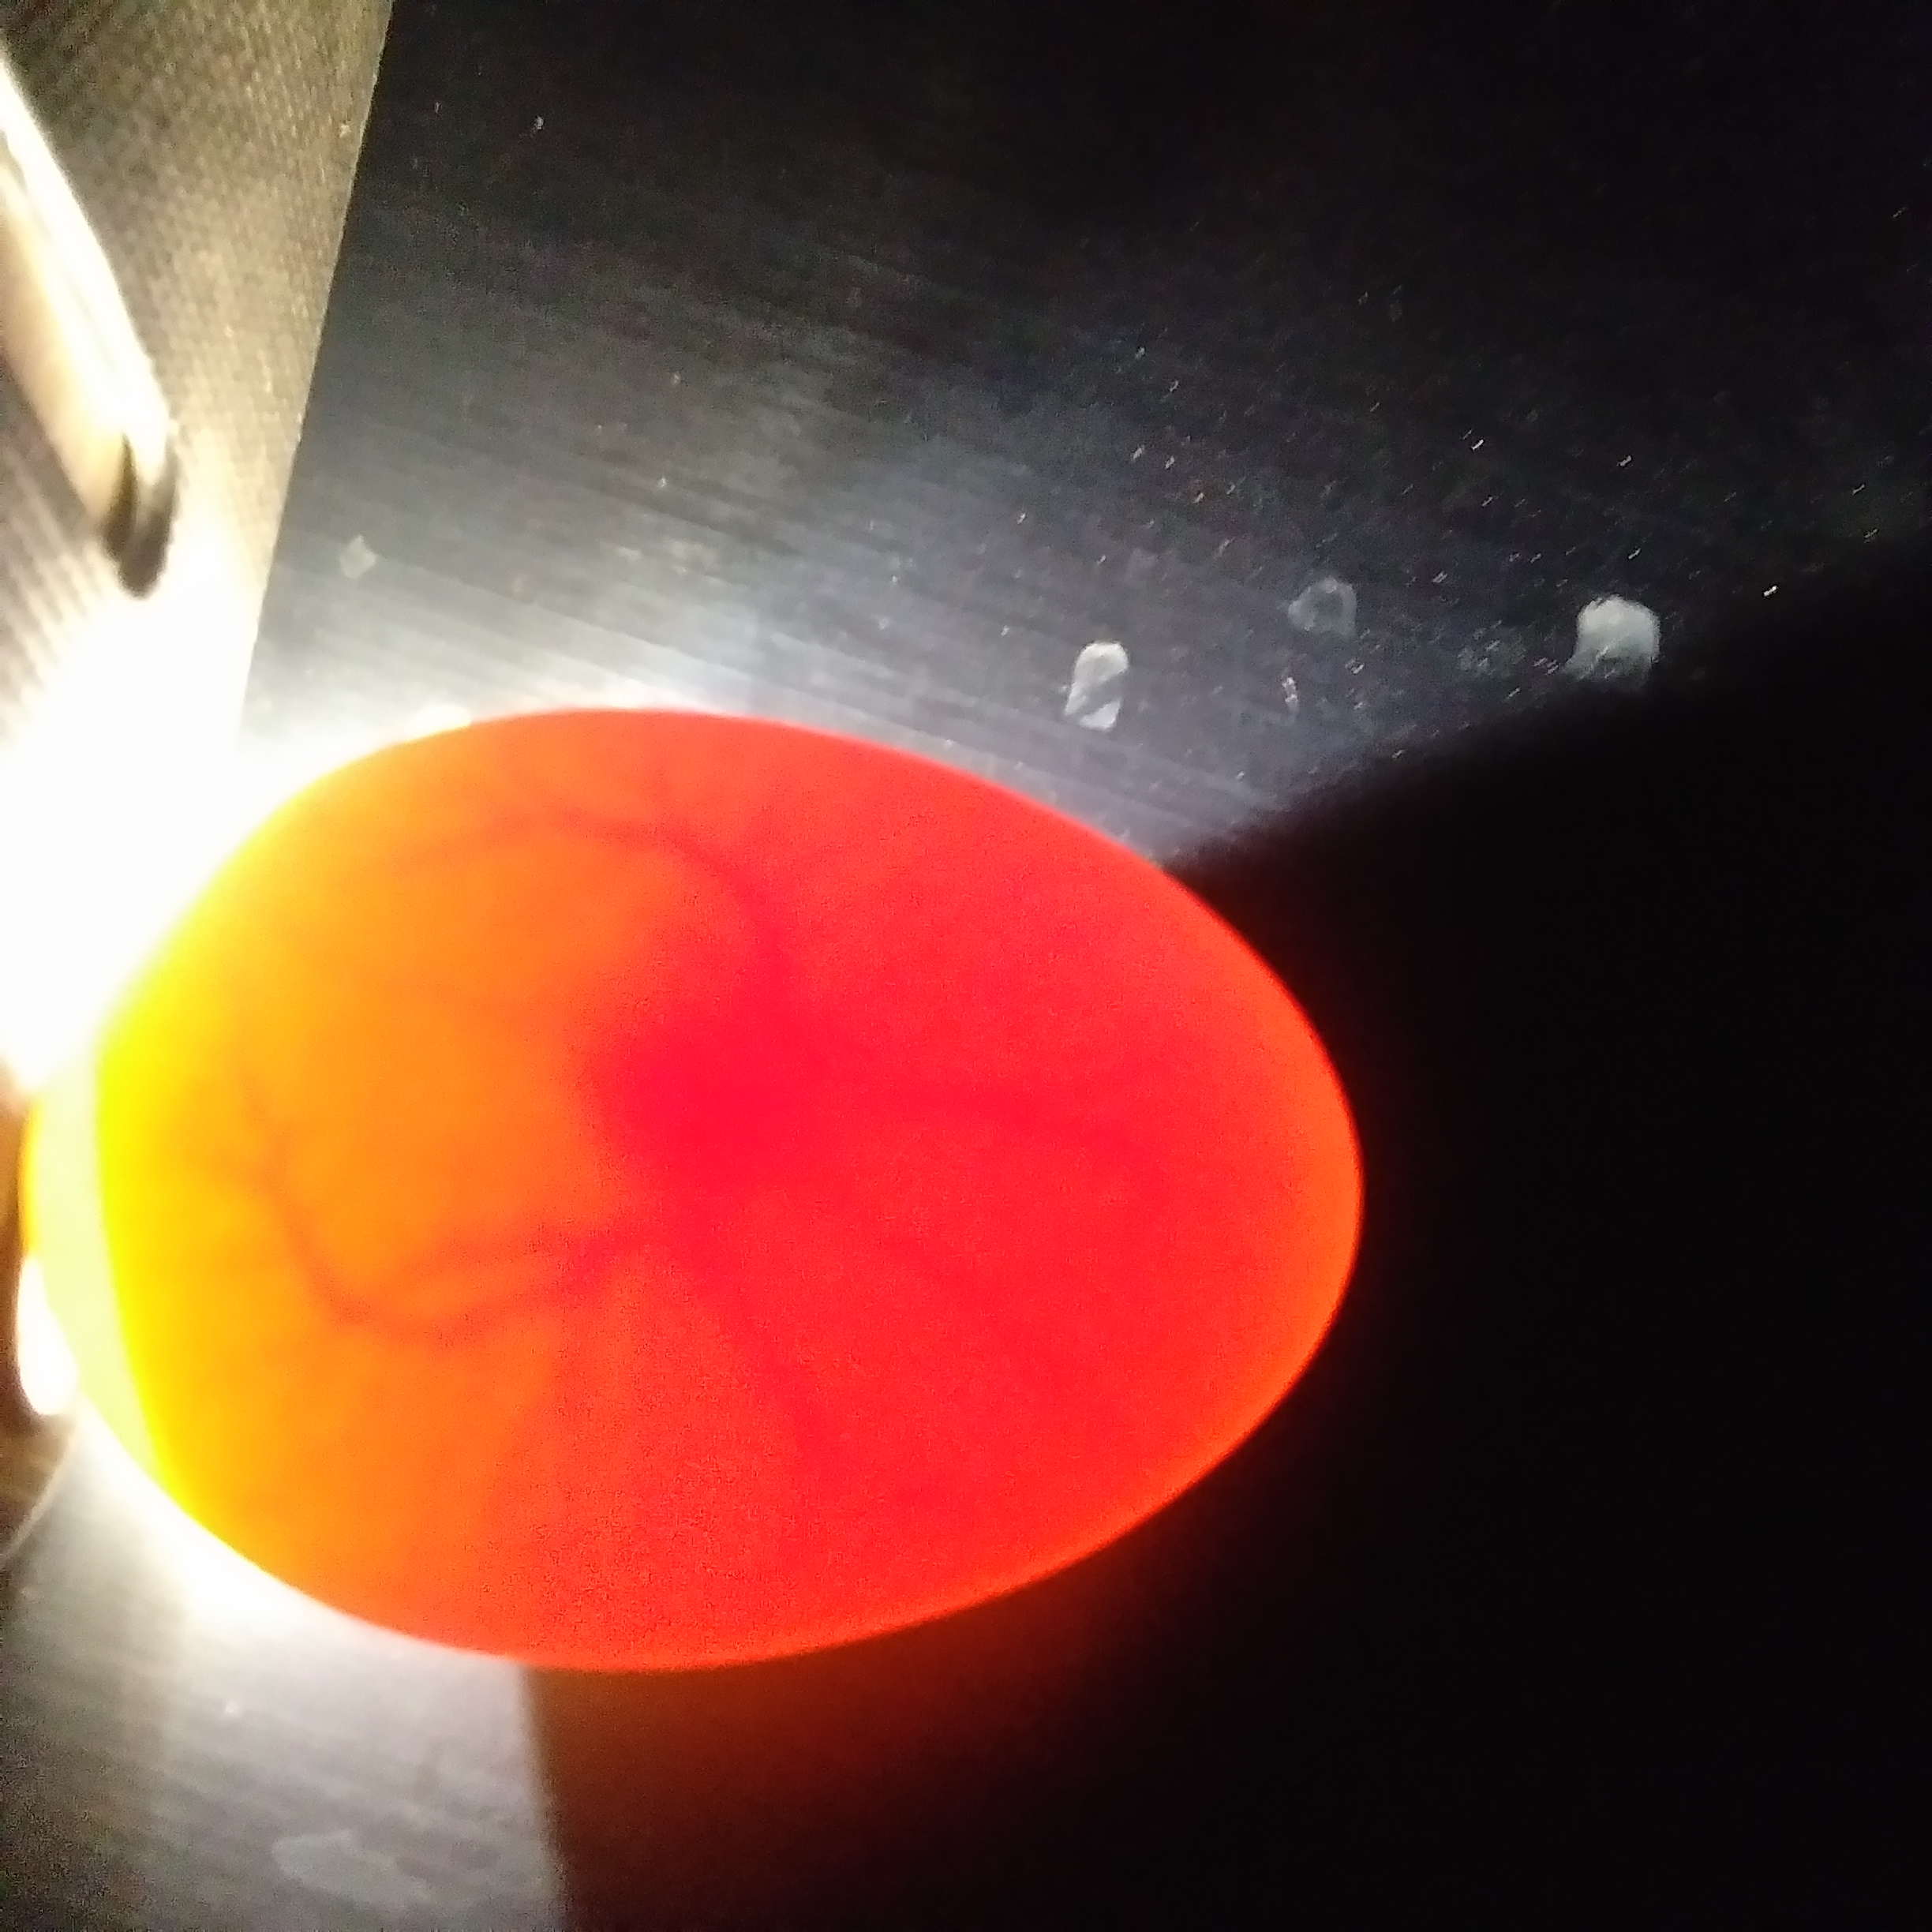bloodcell: (308, 1270, 893, 1553), (525, 796, 856, 932)
embryo: (557, 984, 826, 1203)
